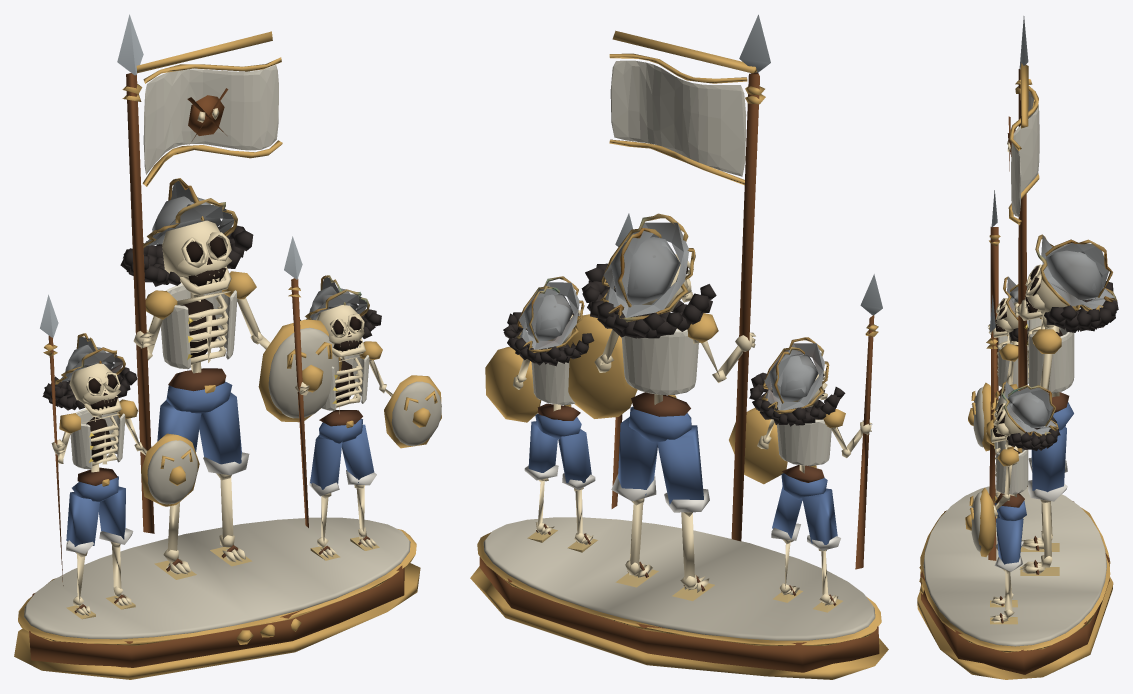
The model's file is pirate_helmet_knight_l3.glb.
3 views of the same model, side by side, from view 1: azimuth 30°, elevation 25°; view 2: azimuth 150°, elevation 25°; view 3: azimuth 270°, elevation 25° (orthographic). The views are drawn at different scales.
Parts seen in each view (by area): view 1: FixedDetails, WoodBody, BrassTrim; view 2: FixedDetails, WoodBody, BrassTrim; view 3: FixedDetails, WoodBody, BrassTrim.
Boxes of the visible parts, <box> form: FixedDetails: <box>29,14,404,667</box>; WoodBody: <box>24,65,441,639</box>; BrassTrim: <box>14,31,441,679</box>; FixedDetails: <box>479,14,882,672</box>; WoodBody: <box>483,60,875,640</box>; BrassTrim: <box>470,30,888,679</box>; FixedDetails: <box>920,16,1118,674</box>; WoodBody: <box>923,91,1106,646</box>; BrassTrim: <box>917,63,1116,679</box>.
Size of the model in its own units: 0.527 by 0.7716 by 0.2564.
